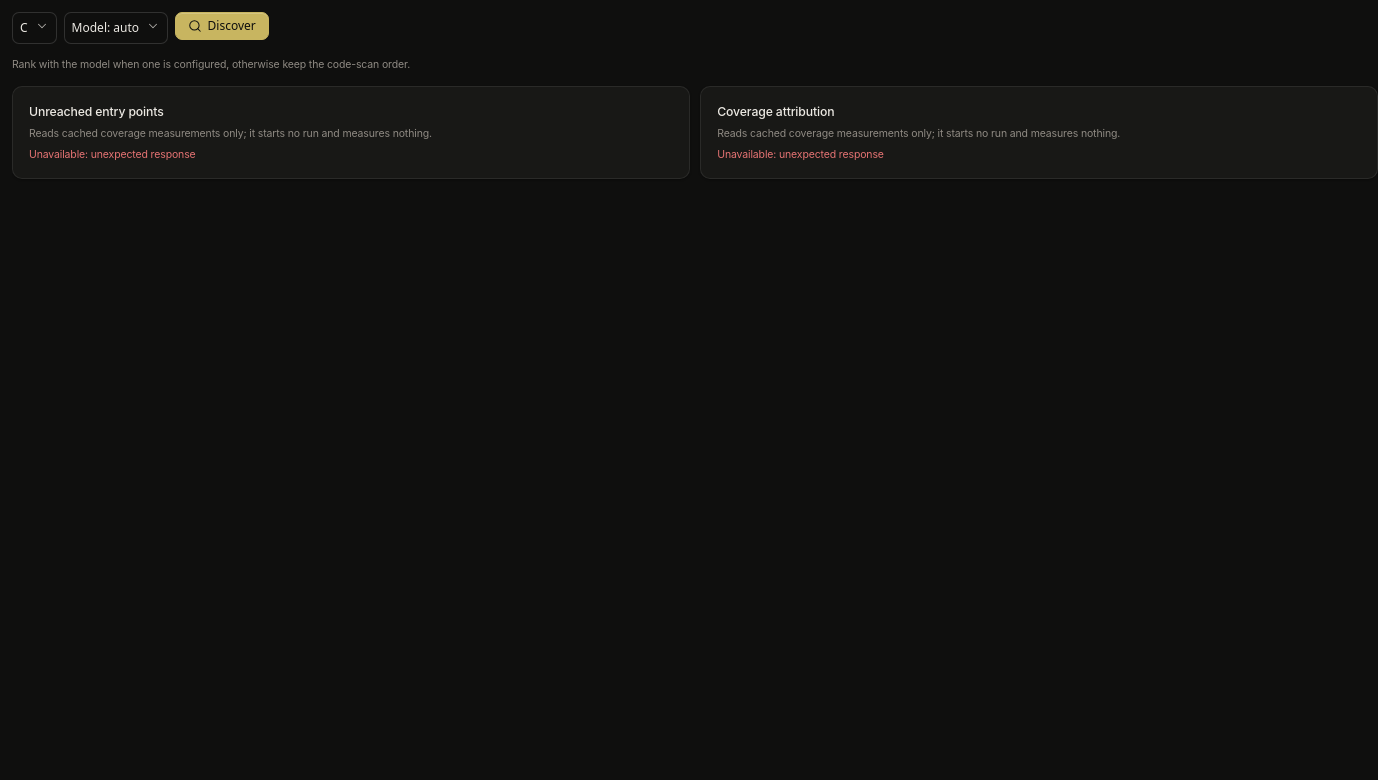
Test: retains a published scan and offers retry after interruption
The image size is (1378, 780).
Later steps or results of the test are not shown.
Click the button "Discover" at (222, 26), box top-left (175, 12), bottom-right (269, 40)
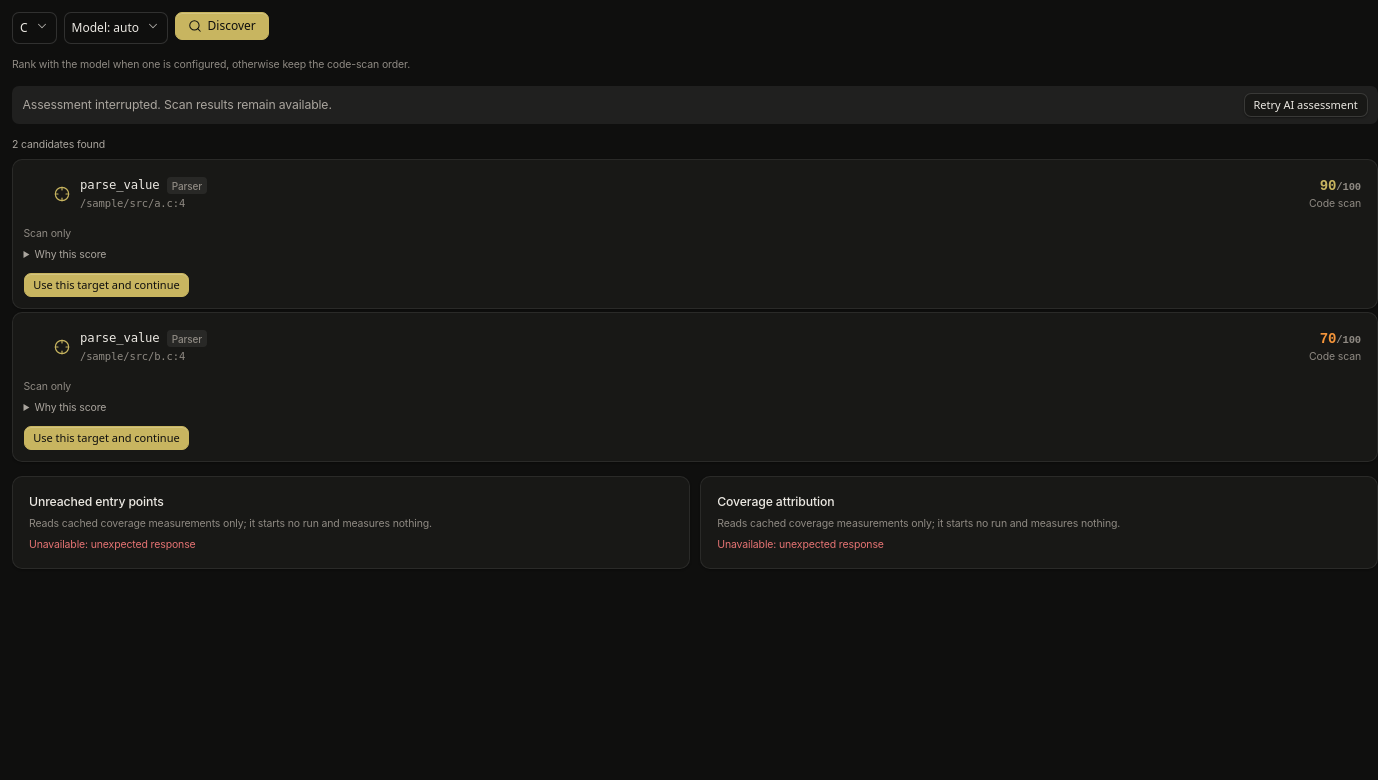
expect the text "Assessment interrupted" is shown: met, box top-left (22, 97), bottom-right (332, 112)
expect the text "src/a.c" is shown: met, box top-left (80, 197), bottom-right (173, 209)
